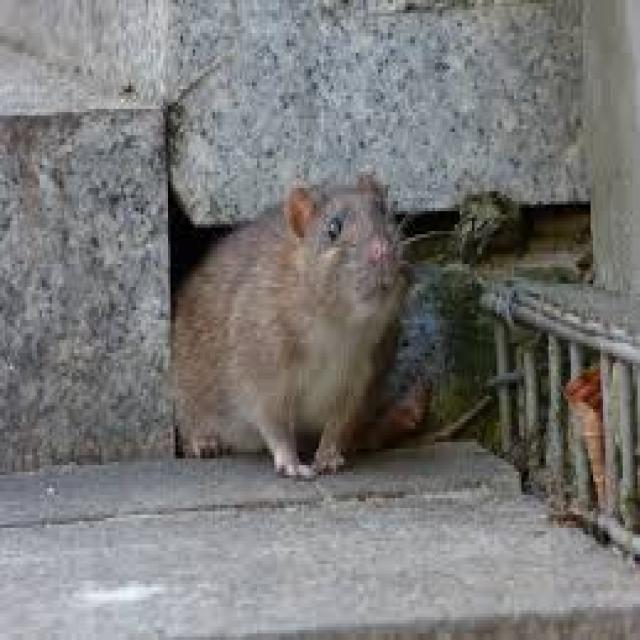rat: (171, 168, 415, 478)
